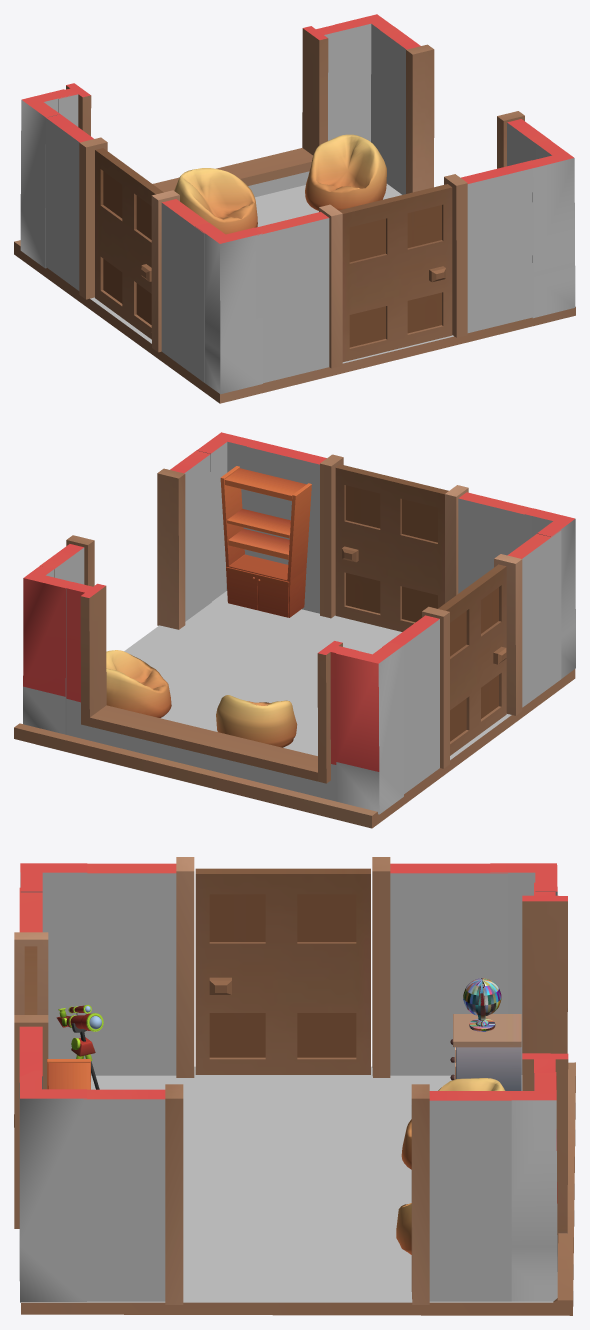
The model's file is LIBRERIA.fbx.
The picture shows the model from 3 angles, top to bottom: view 1: azimuth 30°, elevation 25°; view 2: azimuth 150°, elevation 25°; view 3: azimuth 270°, elevation 25°; orthographic projection. The views are drawn at different scales.
Parts seen in each view (by area): view 1: paret_puerta49, puerta22, paret_puerta50, paret_con_ventana_grande24, puerta23, paret_esquina_84, paret_con_borde14, paret_esquina_82, suelo7, puf3, paret_esquina_81, paret_esquina_79 (+3 smaller); view 2: suelo7, paret_con_ventana_grande24, paret_puerta50, puerta22, paret_puerta49, paret_esquina_81, mueble_estanteria1, puerta23, paret_con_borde13, paret_esquina_79, fombra6, puf3 (+4 smaller); view 3: suelo7, paret_puerta50, puerta23, paret_con_borde14, paret_con_borde13, paret_esquina_82, fombra6, paret_con_ventana_grande24, paret_esquina_79, paret_esquina_84, paret_puerta49, mueble2 (+6 smaller).
Part boxes in pixels (x1,y1,x2,y2): paret_puerta49: [255, 160, 540, 383]; puerta22: [339, 184, 452, 361]; paret_puerta50: [46, 110, 208, 382]; paret_con_ventana_grande24: [58, 24, 344, 197]; puerta23: [95, 148, 163, 339]; paret_esquina_84: [195, 222, 262, 394]; paret_con_borde14: [379, 26, 434, 194]; paret_esquina_82: [524, 140, 575, 318]; suelo7: [14, 184, 575, 403]; puf3: [305, 134, 386, 210]; paret_esquina_81: [20, 89, 71, 268]; paret_esquina_79: [335, 14, 393, 152]; suelo7: [14, 591, 575, 828]; paret_con_ventana_grande24: [65, 582, 357, 801]; paret_puerta50: [382, 530, 561, 793]; puerta22: [335, 464, 448, 631]; paret_puerta49: [247, 440, 532, 618]; paret_esquina_81: [336, 642, 403, 814]; mueble_estanteria1: [220, 466, 311, 617]; puerta23: [438, 564, 506, 755]; paret_con_borde13: [157, 450, 211, 629]; paret_esquina_79: [23, 566, 71, 734]; fombra6: [148, 657, 317, 748]; puf3: [106, 650, 171, 717]; suelo7: [21, 1062, 575, 1315]; paret_puerta50: [86, 857, 507, 1077]; puerta23: [195, 868, 370, 1074]; paret_con_borde14: [411, 1084, 511, 1304]; paret_con_borde13: [83, 1084, 183, 1304]; paret_esquina_82: [19, 1070, 86, 1302]; fombra6: [295, 1139, 411, 1265]; paret_con_ventana_grande24: [522, 882, 568, 1233]; paret_esquina_79: [502, 1072, 557, 1301]; paret_esquina_84: [20, 863, 87, 1058]; paret_puerta49: [14, 887, 48, 1228]; mueble2: [450, 978, 521, 1090].
Bounding box in the file's own units: 841 × 360 × 832.
